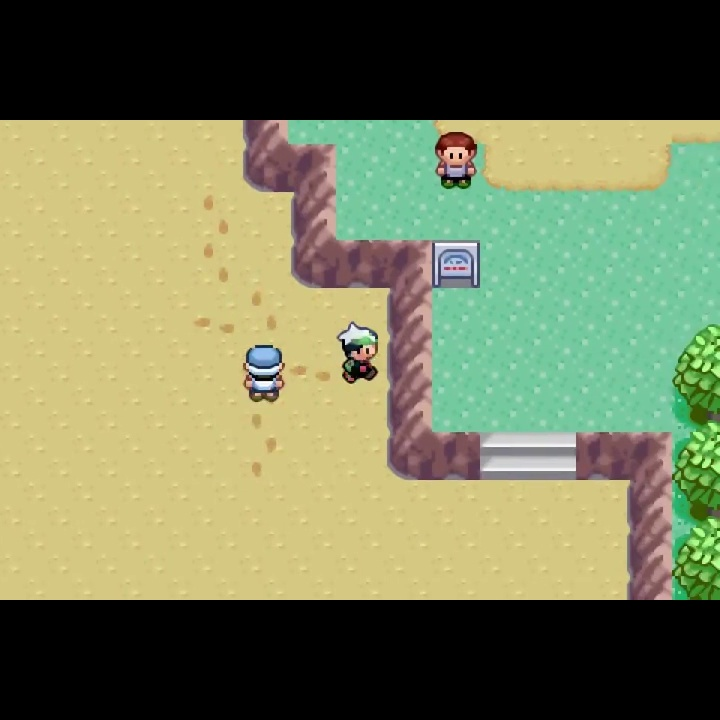npc: (336, 319, 383, 389), (239, 341, 289, 406), (434, 129, 480, 193)
wall: (671, 322, 720, 421), (672, 422, 720, 517), (671, 517, 720, 601)
